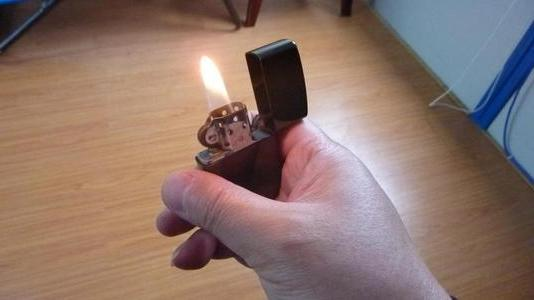fire: (187, 53, 241, 122)
